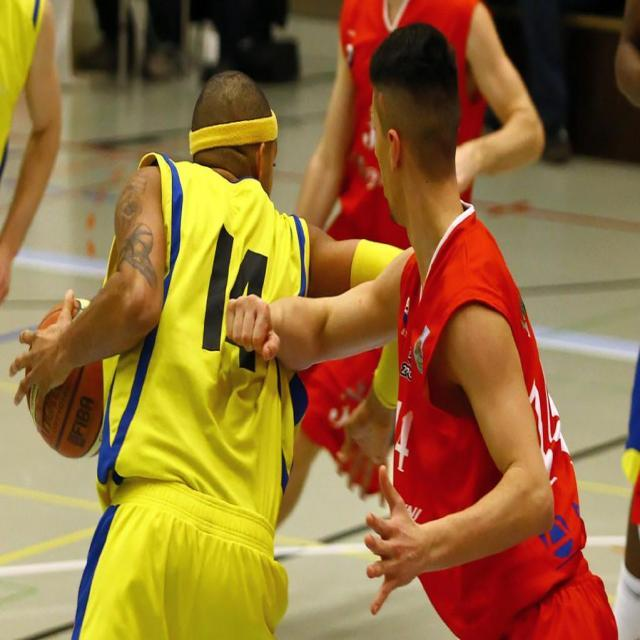rim: (32, 296, 108, 460)
